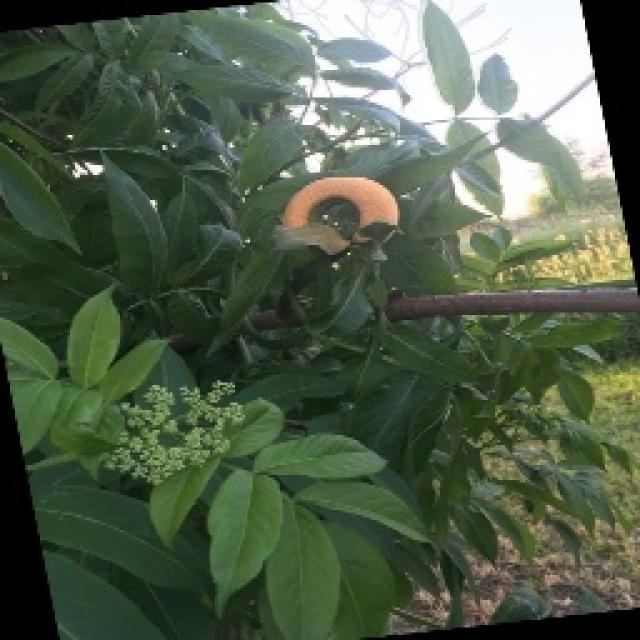Elderberry_rust: (282, 168, 421, 255)
